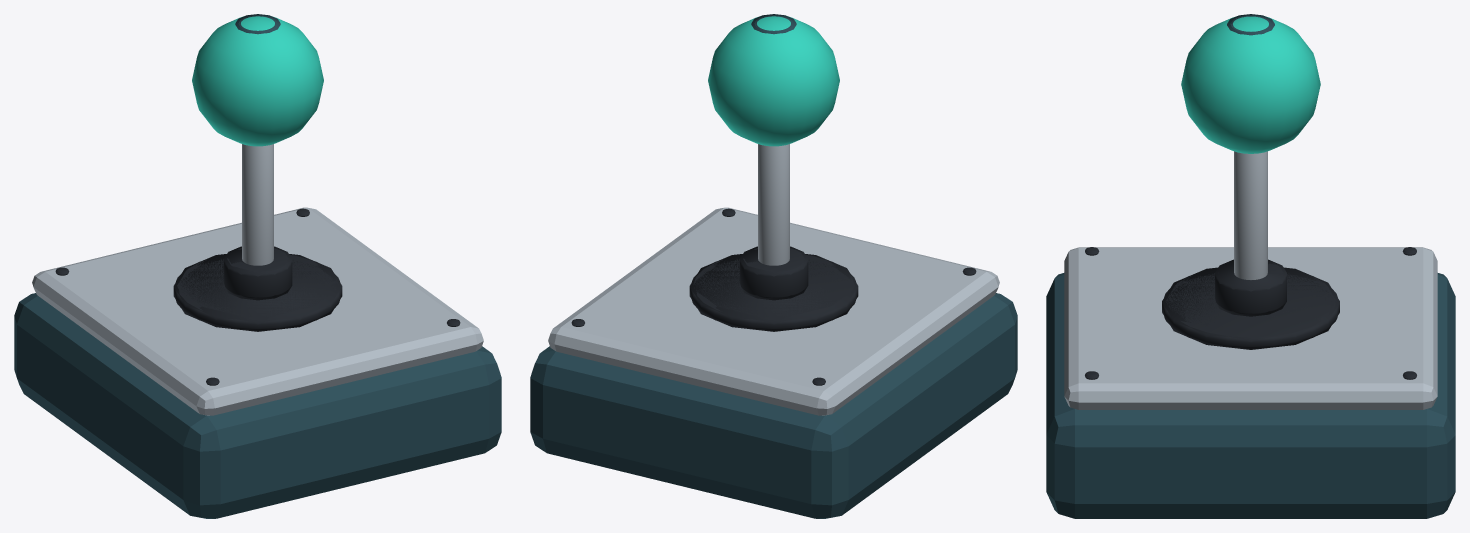
The model's file is stick-arcade.glb.
3 renders of one model, left to right at view 1: azimuth 30°, elevation 25°; view 2: azimuth 150°, elevation 25°; view 3: azimuth 270°, elevation 25°, orthographic. The views are drawn at different scales.
Parts seen in each view (by area): view 1: housing, deck, ball_top, dust_ring, dust_ring.001, shaft, lower_collar, lower_collar.001; view 2: housing, deck, ball_top, dust_ring, dust_ring.001, shaft, lower_collar, lower_collar.001; view 3: housing, deck, ball_top, dust_ring, shaft, dust_ring.001, lower_collar, lower_collar.001.
Part boxes in pixels (x1,y1,x2,y2): housing: (14,293,501,518); deck: (32,207,483,415); ball_top: (192,16,323,146); dust_ring: (173,255,342,329); dust_ring.001: (173,254,342,331); shaft: (242,144,273,265); lower_collar: (223,248,292,298); lower_collar.001: (223,246,292,300); housing: (530,293,1017,518); deck: (548,207,999,415); ball_top: (708,16,839,146); dust_ring: (689,255,858,329); dust_ring.001: (689,254,858,331); shaft: (758,144,789,265); lower_collar: (739,248,808,298); lower_collar.001: (739,246,808,300); housing: (1046,273,1455,518); deck: (1064,247,1437,409); ball_top: (1181,16,1320,153); dust_ring: (1162,273,1339,347); shaft: (1234,151,1267,279); dust_ring.001: (1162,267,1339,349); lower_collar: (1215,263,1286,314); lower_collar.001: (1215,259,1286,316).
Bounding box in the file's own units: 0.16 × 0.196 × 0.17.
